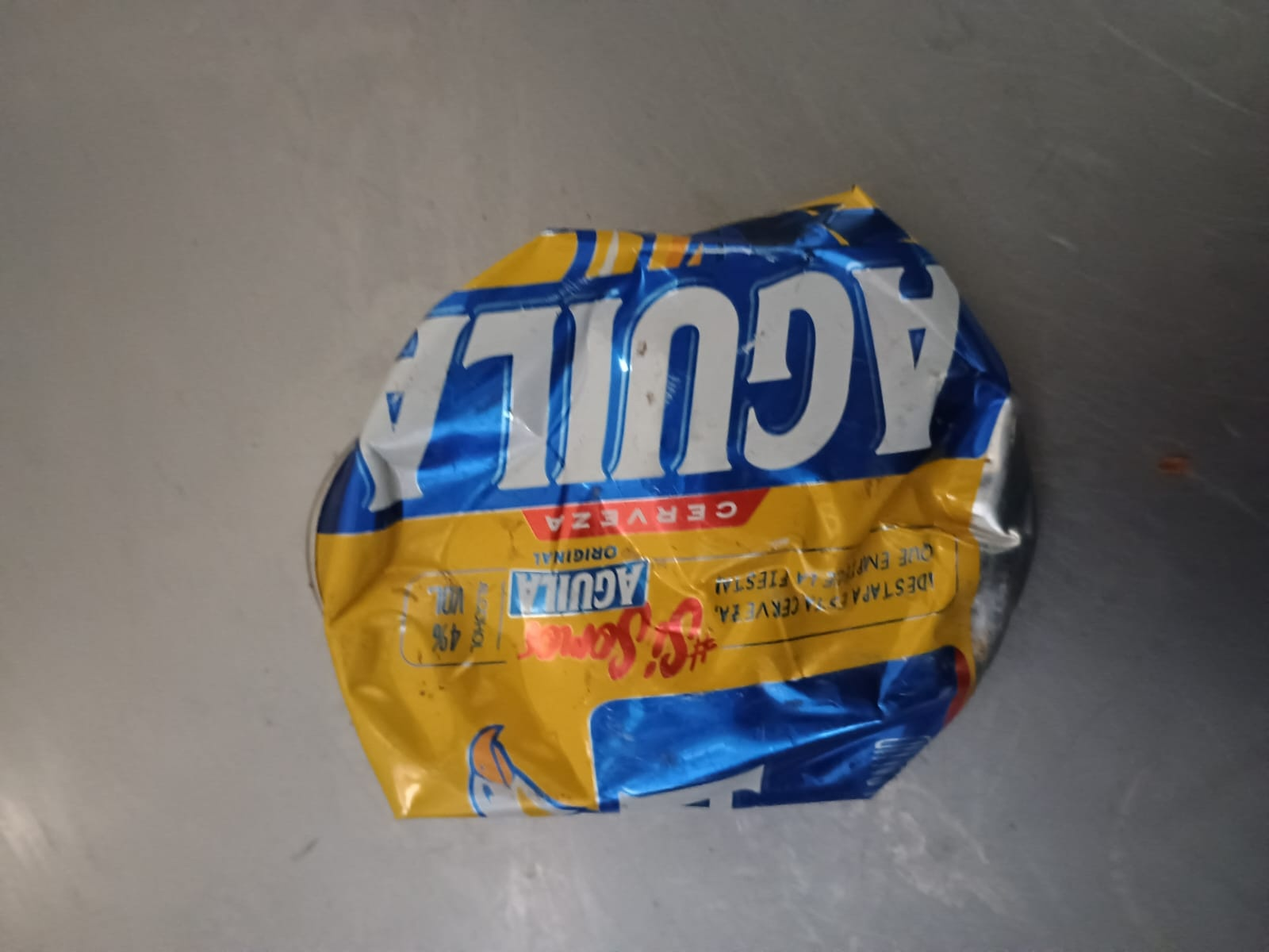Metal: (308, 185, 1038, 817)
